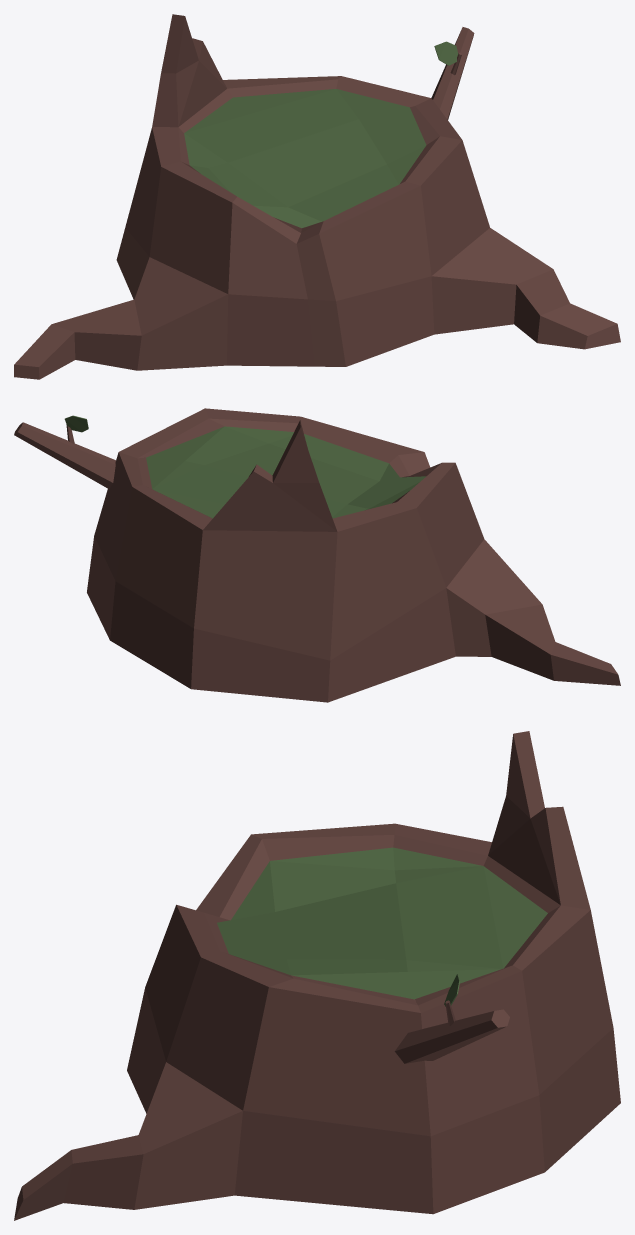
Rendered from TreeStump_Moss.glb.
3 renders of one model, top to bottom at view 1: azimuth 30°, elevation 25°; view 2: azimuth 150°, elevation 25°; view 3: azimuth 270°, elevation 25°, orthographic. The views are drawn at different scales.
Parts seen in each view (by area): view 1: TreeStump_Moss; view 2: TreeStump_Moss; view 3: TreeStump_Moss.
Part boxes in pixels (x1,y1,x2,y2): TreeStump_Moss: (14,14,620,379); TreeStump_Moss: (14,408,620,702); TreeStump_Moss: (14,731,620,1220).
Size of the model in its own units: 1.36 by 0.6216 by 1.03.
